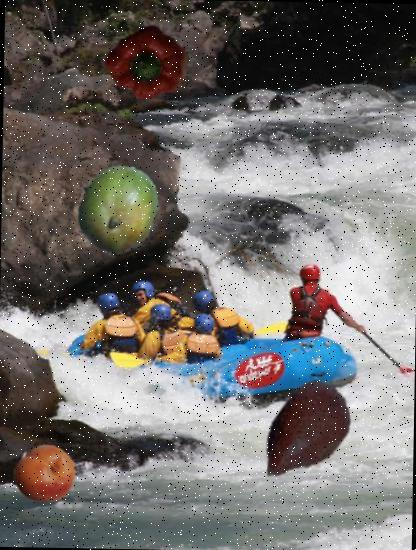Apricot: (14, 442, 76, 505)
Mango: (70, 162, 163, 256)
Pepper: (107, 24, 189, 106)
Salak: (248, 376, 362, 490)
